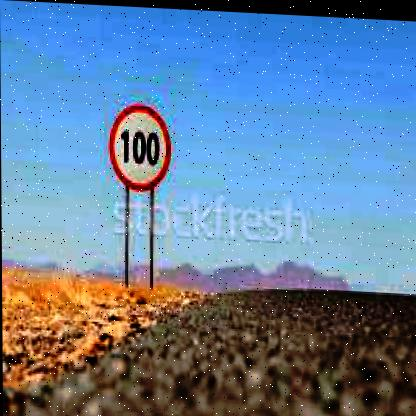Speed Limit -100-: (107, 100, 172, 190)
